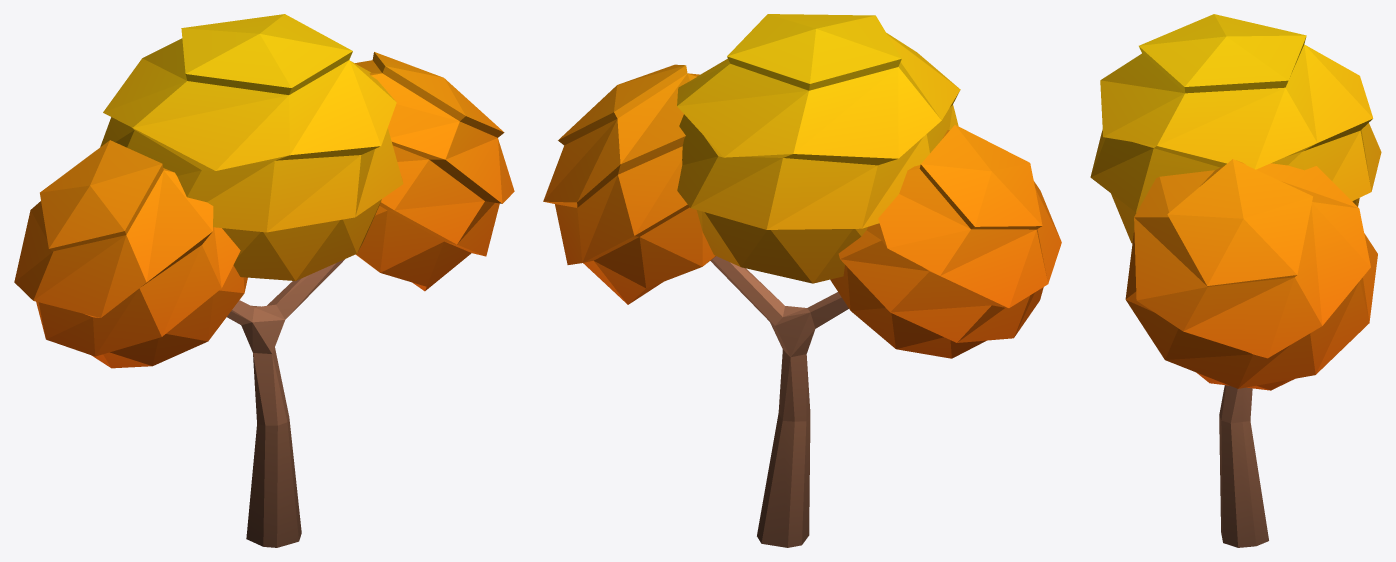
File: autumn tree 5.fbx
The picture shows the model from 3 angles, left to right: view 1: azimuth 30°, elevation 25°; view 2: azimuth 150°, elevation 25°; view 3: azimuth 270°, elevation 25°; orthographic projection. The views are drawn at different scales.
Parts seen in each view (by area): view 1: autumn tree 5; view 2: autumn tree 5; view 3: autumn tree 5.
Part boxes in pixels (x1,y1,x2,y2): autumn tree 5: (14,14,514,547); autumn tree 5: (543,14,1061,547); autumn tree 5: (1090,14,1381,547).
Size of the model in its own units: 738 by 766 by 413.
